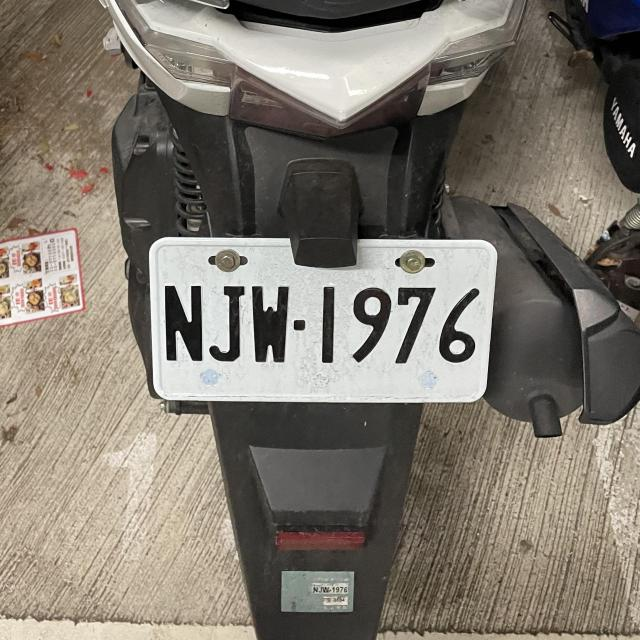W: (146, 238, 499, 405)
